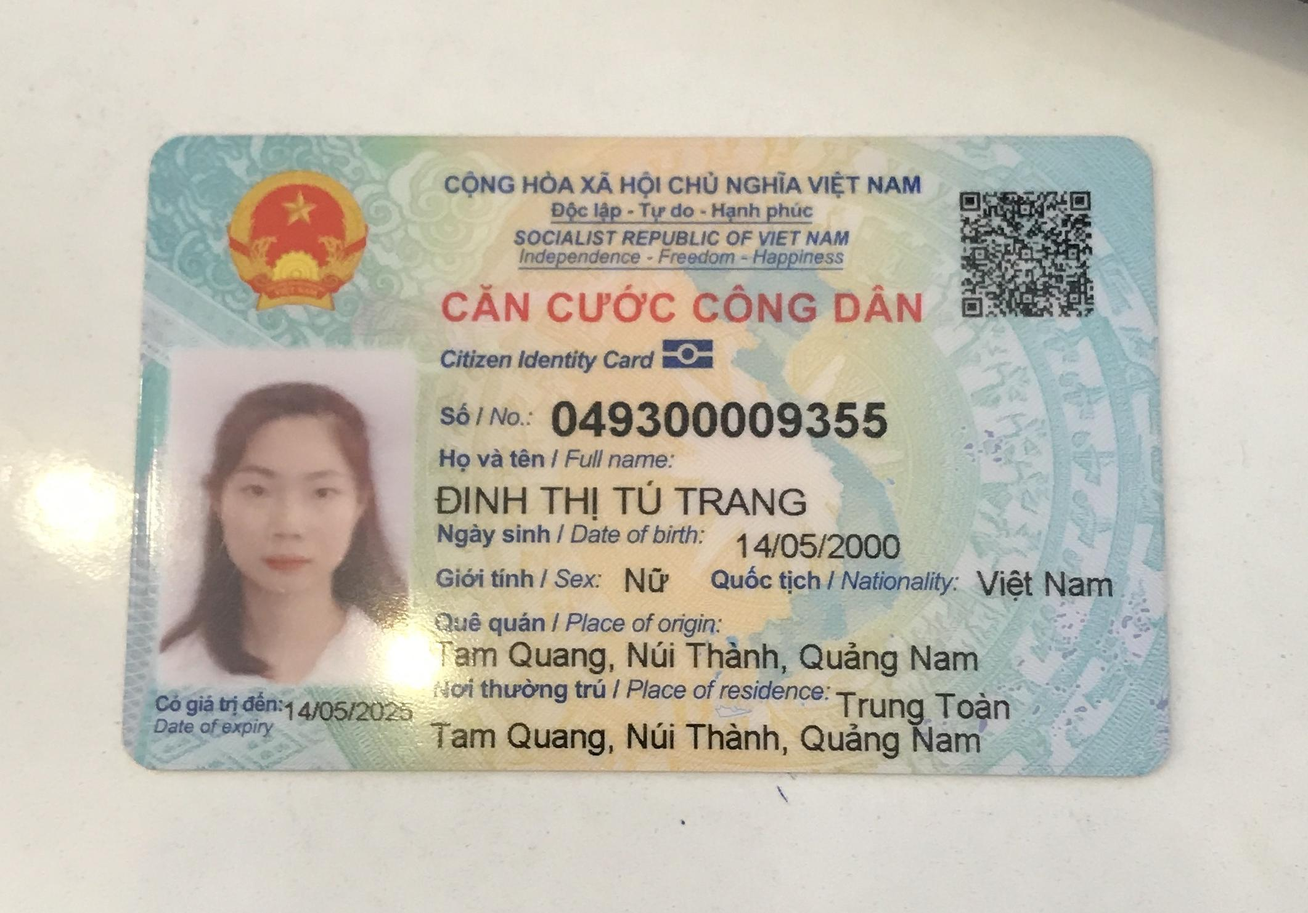ID: (545, 384, 899, 451)
birth: (729, 528, 922, 565)
name: (429, 478, 814, 523)
place: (434, 631, 987, 680)
residence: (426, 713, 994, 770), (835, 687, 1022, 724)
